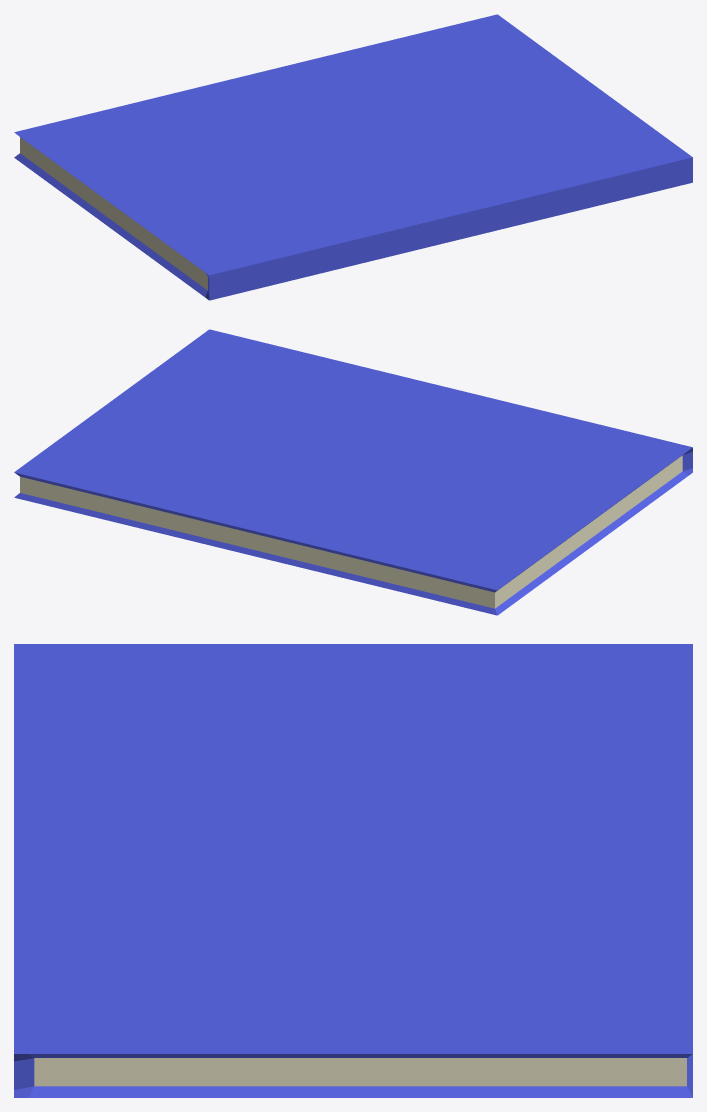
Rendered from Book.fbx.
The picture shows the model from 3 angles, top to bottom: view 1: azimuth 30°, elevation 25°; view 2: azimuth 150°, elevation 25°; view 3: azimuth 270°, elevation 25°; orthographic projection. The views are drawn at different scales.
Visible parts, largest first — view 1: Cube; view 2: Cube; view 3: Cube.
Part boxes in pixels (x1=…): Cube: x1=14, y1=14, x2=692, y2=300; Cube: x1=14, y1=329, x2=692, y2=615; Cube: x1=14, y1=644, x2=692, y2=1097.
Size of the model in its own units: 2000 by 100 by 1400.
